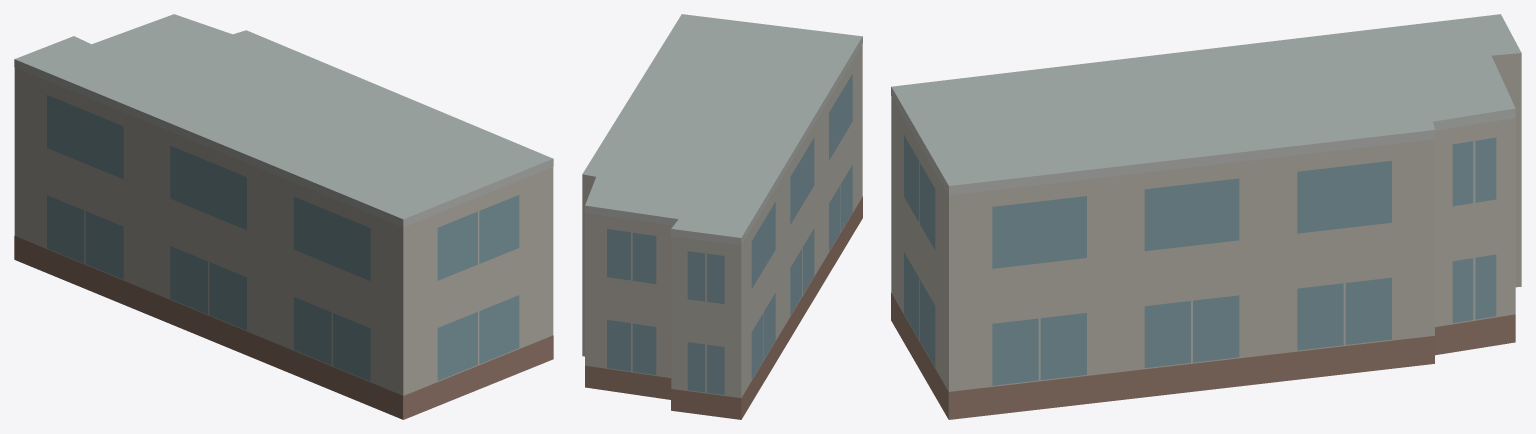
File: survey-upis-32623683.glb
The picture shows the model from 3 angles, left to right: view 1: azimuth 30°, elevation 25°; view 2: azimuth 150°, elevation 25°; view 3: azimuth 270°, elevation 25°; orthographic projection. The views are drawn at different scales.
Parts seen in each view (by area): view 1: survey-upis-32623683.tmp; view 2: survey-upis-32623683.tmp; view 3: survey-upis-32623683.tmp.
Boxes of the visible parts, <box> form: survey-upis-32623683.tmp: <box>14,14,553,419</box>; survey-upis-32623683.tmp: <box>582,14,862,419</box>; survey-upis-32623683.tmp: <box>891,14,1521,419</box>.
Size of the model in its own units: 9.64 by 6.1 by 14.92.
